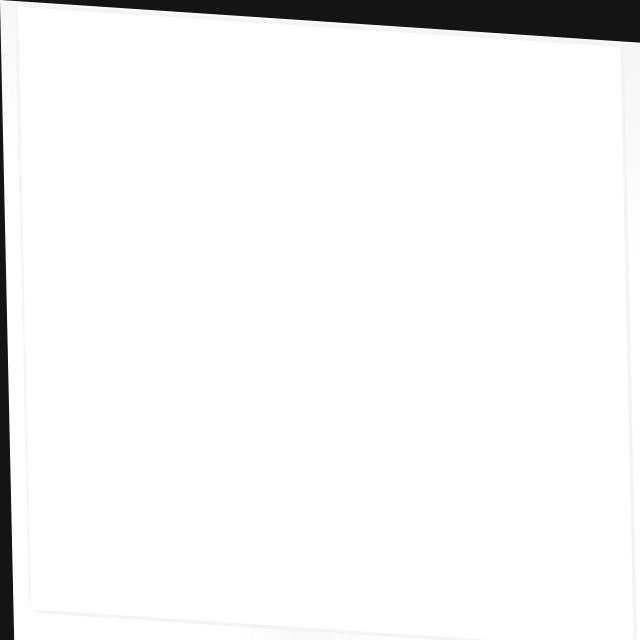qr_code: (18, 7, 631, 640)
